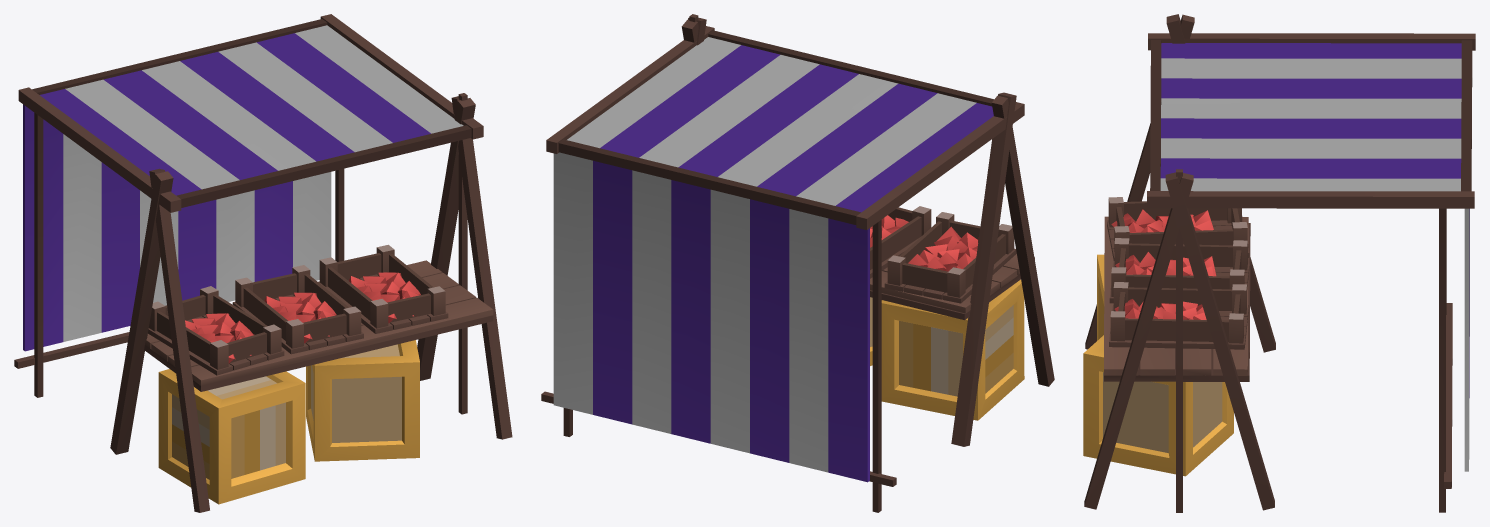
File: village_stall_004.glb
3 views of the same model, side by side, from view 1: azimuth 30°, elevation 25°; view 2: azimuth 150°, elevation 25°; view 3: azimuth 270°, elevation 25° (orthographic). The views are drawn at different scales.
Visible parts, largest first — view 1: props_047; view 2: props_047; view 3: props_047.
Part boxes in pixels (box(x1,y1,x2,y2)): props_047: box(14, 14, 512, 512); props_047: box(541, 14, 1054, 512); props_047: box(1083, 14, 1475, 512).
Bounding box in the file's own units: 4.92 × 4.36 × 4.55.
1 material, 1 textured.
